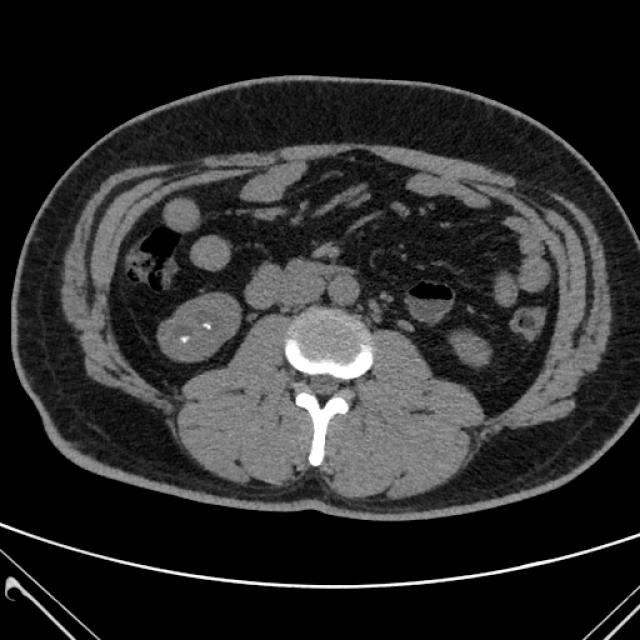kidney: (151, 285, 247, 369), (445, 320, 499, 373)
stone: (202, 320, 214, 332), (179, 334, 189, 345)
